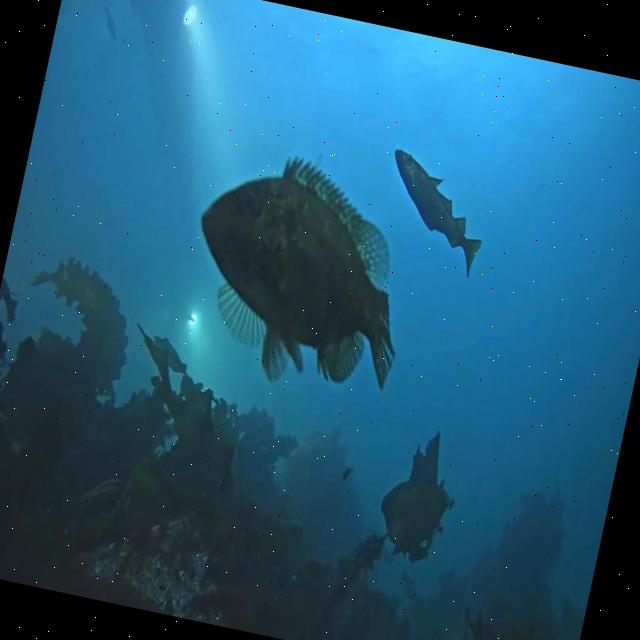fish: (168, 138, 432, 408), (372, 146, 496, 280), (94, 1, 122, 44)
